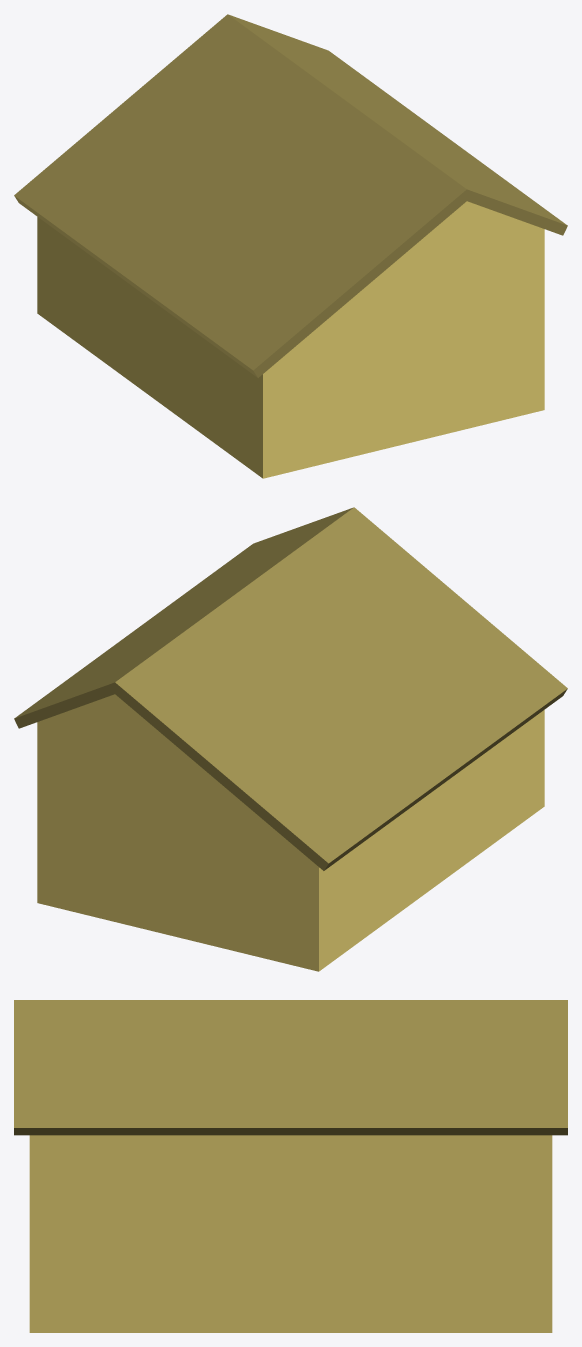
The model's file is result.glb.
3 views of the same model, one above another, from view 1: azimuth 30°, elevation 25°; view 2: azimuth 150°, elevation 25°; view 3: azimuth 270°, elevation 25° (orthographic). The views are drawn at different scales.
Parts seen in each view (by area): view 1: 3e96747f-c9a8-4611-9114-54dab46da9e9__undefined (×2), 4fd212e8-6227-4c81-bc1c-871ded5adc18__undefined; view 2: 3e96747f-c9a8-4611-9114-54dab46da9e9__undefined (×2), 4fd212e8-6227-4c81-bc1c-871ded5adc18__undefined; view 3: 4fd212e8-6227-4c81-bc1c-871ded5adc18__undefined, 3e96747f-c9a8-4611-9114-54dab46da9e9__undefined.
Part boxes in pixels (x1,y1,x2,y2): 3e96747f-c9a8-4611-9114-54dab46da9e9__undefined (×2): (14,14,567,377); 4fd212e8-6227-4c81-bc1c-871ded5adc18__undefined: (37,201,544,478); 3e96747f-c9a8-4611-9114-54dab46da9e9__undefined (×2): (14,507,567,870); 4fd212e8-6227-4c81-bc1c-871ded5adc18__undefined: (37,694,544,971); 4fd212e8-6227-4c81-bc1c-871ded5adc18__undefined: (29,1135,552,1332); 3e96747f-c9a8-4611-9114-54dab46da9e9__undefined: (14,1000,567,1135).
Size of the model in its own units: 805 by 602 by 1060.
